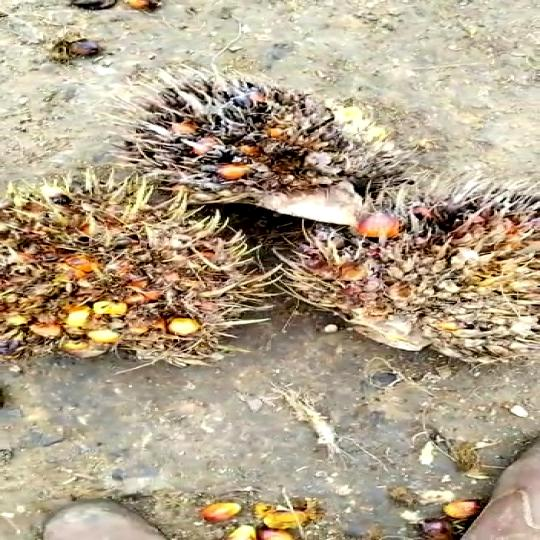terlalu masak: (0, 175, 268, 369), (264, 170, 540, 358), (110, 72, 406, 223)
